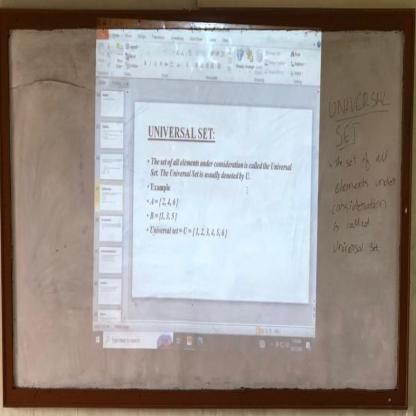Handwritten text: (325, 84, 392, 118), (333, 173, 399, 195), (332, 146, 392, 170), (327, 195, 393, 214), (332, 237, 382, 262), (328, 215, 375, 234), (334, 118, 359, 148)
Whiteboard: (6, 20, 406, 401)
